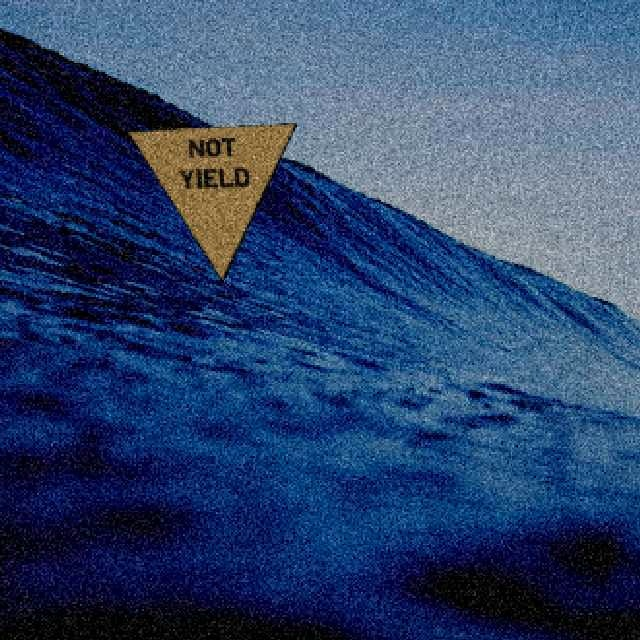NOT_YIELD: (125, 121, 296, 281)
